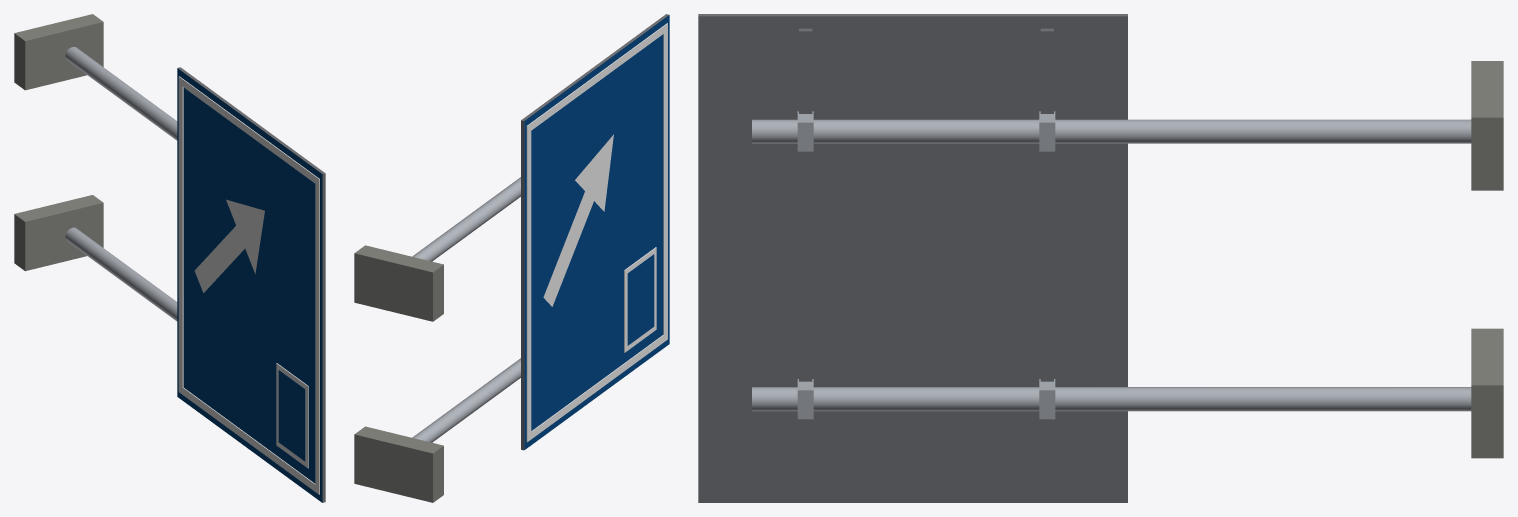
Rendered from SM_Cartel_Salida_Inmediata.obj.
3 views of the same model, side by side, from view 1: azimuth 30°, elevation 25°; view 2: azimuth 150°, elevation 25°; view 3: azimuth 270°, elevation 25° (orthographic). The views are drawn at different scales.
Parts seen in each view (by area): view 1: SM_Cartel_Salida_Inmediata; view 2: SM_Cartel_Salida_Inmediata; view 3: SM_Cartel_Salida_Inmediata.
Boxes of the visible parts, left/top/right/bottom form: SM_Cartel_Salida_Inmediata: left=14, top=14, right=325, bottom=502; SM_Cartel_Salida_Inmediata: left=354, top=14, right=669, bottom=502; SM_Cartel_Salida_Inmediata: left=698, top=14, right=1503, bottom=502.
Size of the model in its own units: 50 by 200 by 300.
